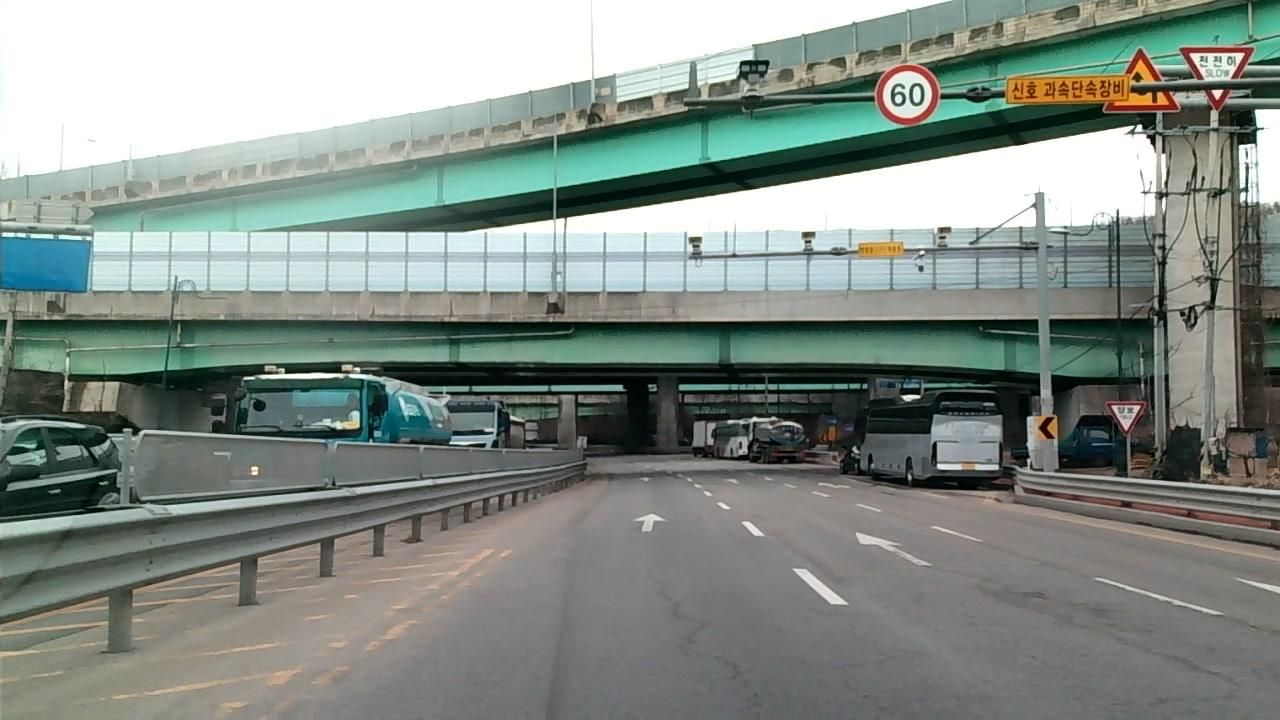banner: (651, 580, 736, 669), (1122, 635, 1237, 698), (1219, 612, 1276, 638)
